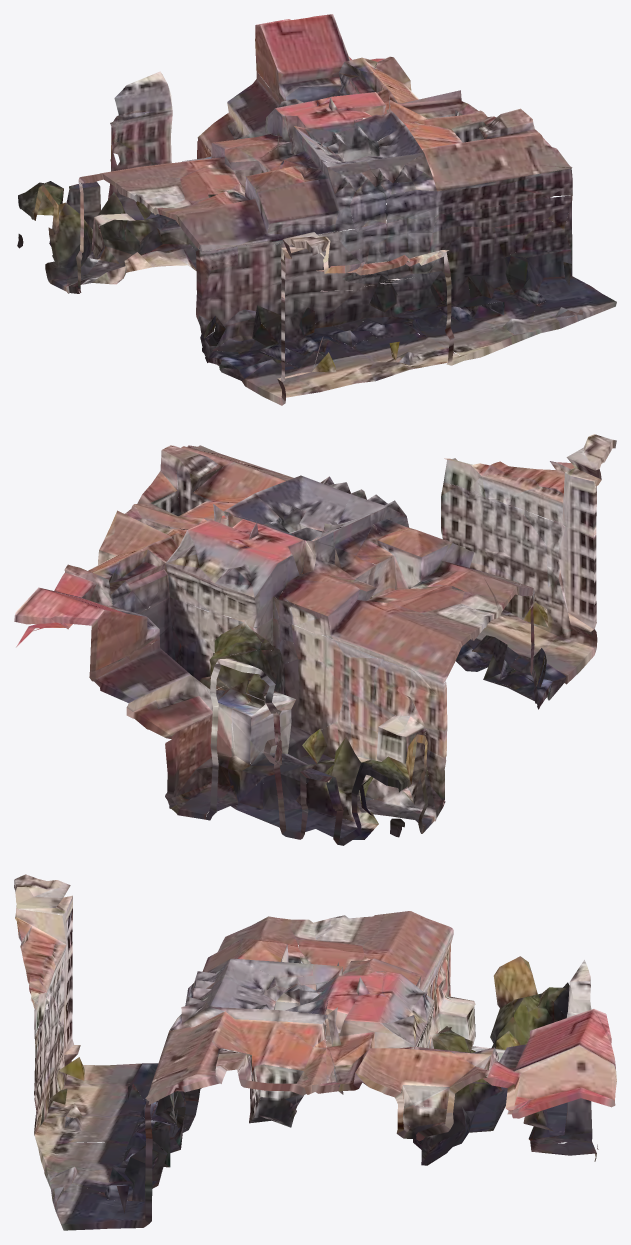
3 renders of one model, top to bottom at view 1: azimuth 30°, elevation 25°; view 2: azimuth 150°, elevation 25°; view 3: azimuth 270°, elevation 25°, orthographic. The views are drawn at different scales.
Parts seen in each view (by area): view 1: Mesh_0; view 2: Mesh_0; view 3: Mesh_0.
Part boxes in pixels (<box>): Mesh_0: <box>17,14,616,405</box>; Mesh_0: <box>14,434,616,845</box>; Mesh_0: <box>14,874,616,1230</box>.
Size of the model in its own units: 67.45 by 32.14 by 82.54.
Materials: 2 (2 with a texture image).
